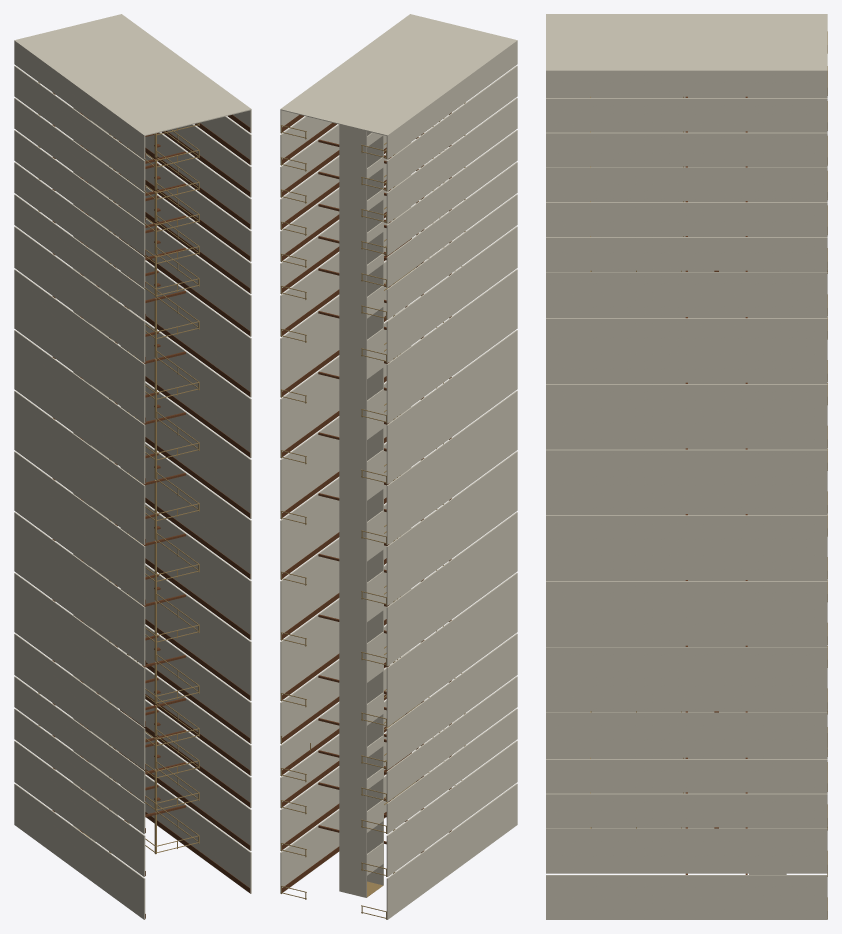
Rendered from PrimaryCoreEnclosure.glb.
3 views of the same model, side by side, from view 1: azimuth 30°, elevation 25°; view 2: azimuth 150°, elevation 25°; view 3: azimuth 270°, elevation 25° (orthographic). The views are drawn at different scales.
Visible parts, largest first — view 1: CORE_TopCover, CORE_OuterWall_07_-1, CORE_OuterWall_06_-1, CORE_OuterWall_08_-1, CORE_OuterWall_09_-1, CORE_OuterWall_10_-1, CORE_OuterWall_05_-1, CORE_OuterWall_09_1, CORE_OuterWall_07_1, CORE_OuterWall_08_1, CORE_OuterWall_05_1, CORE_OuterWall_06_1 (+40 smaller); view 2: CORE_ShaftNorth, CORE_TopCover, CORE_OuterWall_06_-1, CORE_OuterWall_07_-1, CORE_OuterWall_08_-1, CORE_OuterWall_09_-1, CORE_OuterWall_10_-1, CORE_OuterWall_05_-1, CORE_ShaftSouth, CORE_OuterWall_00_-1, CORE_OuterWall_04_-1, CORE_OuterWall_11_-1 (+33 smaller); view 3: CORE_OuterWall_05_1, CORE_OuterWall_06_1, CORE_OuterWall_07_1, CORE_OuterWall_08_1, CORE_OuterWall_09_1, CORE_OuterWall_10_1, CORE_TopCover, CORE_OuterWall_01_1, CORE_OuterWall_04_1, CORE_OuterWall_00_1, CORE_OuterWall_11_1, CORE_OuterWall_02_1 (+9 smaller).
Boxes of the visible parts, x1,y1,x2,y2 form: CORE_TopCover: [14, 14, 251, 136]; CORE_OuterWall_07_-1: [14, 451, 145, 605]; CORE_OuterWall_06_-1: [14, 512, 145, 666]; CORE_OuterWall_08_-1: [14, 390, 145, 544]; CORE_OuterWall_09_-1: [14, 330, 145, 484]; CORE_OuterWall_10_-1: [14, 269, 145, 423]; CORE_OuterWall_05_-1: [14, 573, 145, 726]; CORE_OuterWall_09_1: [121, 304, 251, 458]; CORE_OuterWall_07_1: [120, 443, 251, 579]; CORE_OuterWall_08_1: [120, 382, 251, 518]; CORE_OuterWall_05_1: [121, 564, 251, 700]; CORE_OuterWall_06_1: [120, 503, 251, 640]; CORE_ShaftNorth: [339, 105, 366, 897]; CORE_TopCover: [280, 14, 517, 136]; CORE_OuterWall_06_-1: [386, 512, 517, 666]; CORE_OuterWall_07_-1: [386, 451, 517, 605]; CORE_OuterWall_08_-1: [386, 390, 517, 544]; CORE_OuterWall_09_-1: [386, 330, 517, 484]; CORE_OuterWall_10_-1: [386, 269, 517, 423]; CORE_OuterWall_05_-1: [386, 573, 517, 726]; CORE_ShaftSouth: [357, 92, 383, 885]; CORE_OuterWall_00_-1: [386, 783, 517, 919]; CORE_OuterWall_04_-1: [386, 633, 517, 769]; CORE_OuterWall_11_-1: [386, 226, 517, 362]; CORE_OuterWall_05_1: [546, 647, 827, 711]; CORE_OuterWall_06_1: [546, 581, 827, 645]; CORE_OuterWall_07_1: [546, 515, 827, 579]; CORE_OuterWall_08_1: [546, 449, 827, 513]; CORE_OuterWall_09_1: [546, 384, 827, 448]; CORE_OuterWall_10_1: [546, 318, 827, 382]; CORE_TopCover: [546, 14, 827, 71]; CORE_OuterWall_01_1: [546, 828, 827, 873]; CORE_OuterWall_04_1: [546, 712, 827, 757]; CORE_OuterWall_00_1: [546, 875, 827, 919]; CORE_OuterWall_11_1: [546, 272, 827, 316]; CORE_OuterWall_02_1: [546, 793, 827, 827].
Size of the model in its own units: 15.76 by 110 by 33.04.
Materials: 4 (3 with a texture image).
